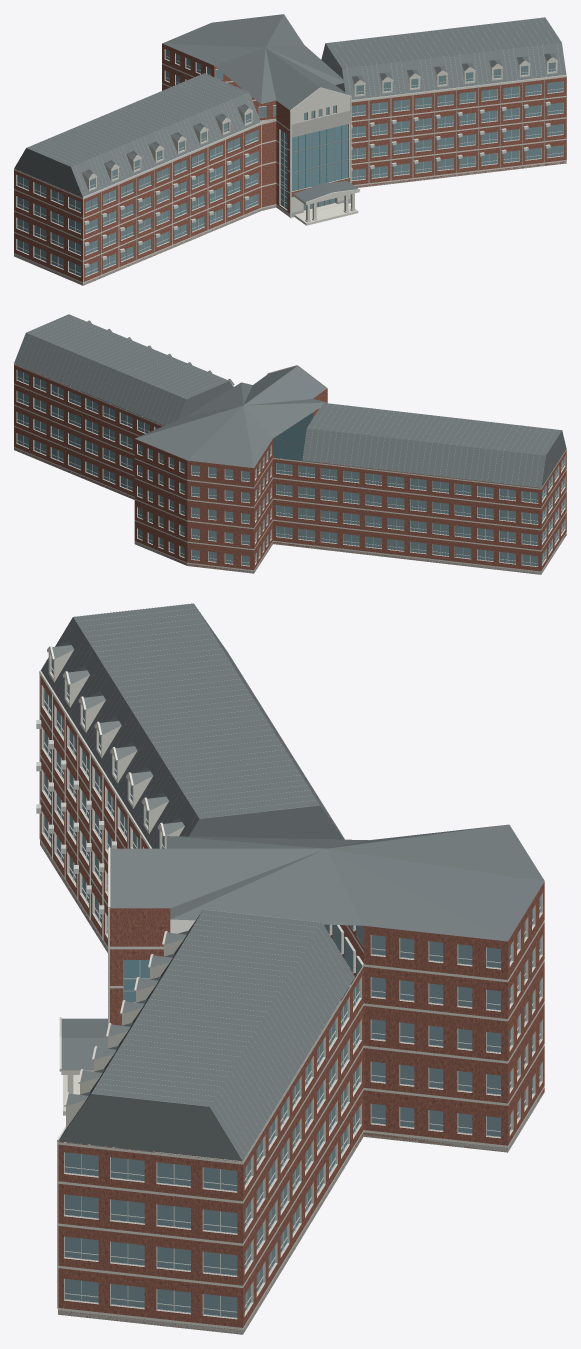
3 renders of one model, top to bottom at view 1: azimuth 30°, elevation 25°; view 2: azimuth 150°, elevation 25°; view 3: azimuth 270°, elevation 25°, orthographic. The views are drawn at different scales.
Parts seen in each view (by area): view 1: baegun__classroomFacades (×4), baegun__centralRearRoof, baegun__rearRoof_west, baegun__windowAndDoorFrames (×2), baegun__rearRoof_east, baegun__roof_east, baegun__roof_west, baegun__sixteenRoofDormers (×3), baegun__recessedOpeningReveals, baegun__centralCurtainWall__curtain, baegun__fineVerticalPiers, baegun__centralGableRoof (+12 smaller); view 2: baegun__classroomFacades (×3), baegun__rearRoof_west, baegun__rearRoof_east, baegun__centralRearRoof, baegun__windowAndDoorFrames, baegun__recessedOpeningReveals, baegun__centralGableRoof, baegun__originalFootprintFoundation, baegun__centralCurtainWall__curtain, baegun__rearRoof_west__seams, baegun__rearRoof_east__ends, baegun__rearRoof_west__ends; view 3: baegun__classroomFacades (×3), baegun__rearRoof_east, baegun__centralRearRoof, baegun__rearRoof_west, baegun__windowAndDoorFrames, baegun__recessedOpeningReveals, baegun__sixteenRoofDormers (×2), baegun__roof_west, baegun__rearRoof_east__ends, baegun__centralGableRoof, baegun__rearRoof_west__ends, baegun__originalFootprintFoundation (+5 smaller).
Part boxes in pixels (x1,y1,x2,y2): baegun__classroomFacades (×4): (14, 43, 566, 285); baegun__centralRearRoof: (162, 14, 347, 110); baegun__rearRoof_west: (27, 73, 248, 166); baegun__windowAndDoorFrames (×2): (16, 49, 563, 276); baegun__rearRoof_east: (326, 17, 561, 68); baegun__roof_east: (342, 42, 566, 99); baegun__roof_west: (71, 92, 260, 196); baegun__sixteenRoofDormers (×3): (82, 53, 557, 191); baegun__recessedOpeningReveals: (16, 49, 563, 277); baegun__centralCurtainWall__curtain: (292, 124, 347, 190); baegun__fineVerticalPiers: (83, 76, 566, 282); baegun__centralGableRoof: (265, 48, 346, 109); baegun__classroomFacades (×3): (14, 363, 566, 574); baegun__rearRoof_west: (302, 403, 561, 487); baegun__rearRoof_east: (14, 314, 228, 425); baegun__centralRearRoof: (135, 374, 327, 467); baegun__windowAndDoorFrames: (16, 370, 564, 566); baegun__recessedOpeningReveals: (16, 370, 565, 566); baegun__centralGableRoof: (243, 366, 326, 405); baegun__originalFootprintFoundation: (14, 448, 565, 574); baegun__centralCurtainWall__curtain: (273, 412, 312, 462); baegun__rearRoof_west__seams: (302, 404, 557, 486); baegun__rearRoof_east__ends: (179, 381, 232, 419); baegun__rearRoof_west__ends: (541, 430, 566, 487); baegun__classroomFacades (×3): (40, 675, 544, 1334); baegun__rearRoof_east: (91, 910, 354, 1160); baegun__centralRearRoof: (111, 824, 544, 941); baegun__rearRoof_west: (73, 603, 344, 839); baegun__windowAndDoorFrames: (43, 687, 541, 1318); baegun__recessedOpeningReveals: (41, 685, 542, 1319); baegun__sixteenRoofDormers (×2): (47, 641, 189, 1128); baegun__roof_west: (41, 617, 199, 848); baegun__rearRoof_east__ends: (58, 1094, 242, 1161); baegun__centralGableRoof: (110, 848, 325, 907); baegun__rearRoof_west__ends: (189, 805, 343, 839); baegun__originalFootprintFoundation: (40, 841, 544, 1334).
Bounding box in the file's own units: 106 × 23.62 × 44.77.
11 materials, 1 textured.
